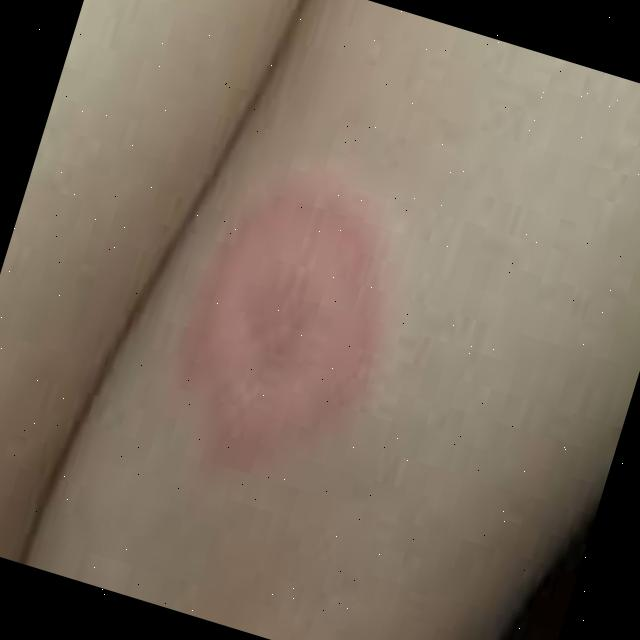kene: (144, 154, 432, 520)
